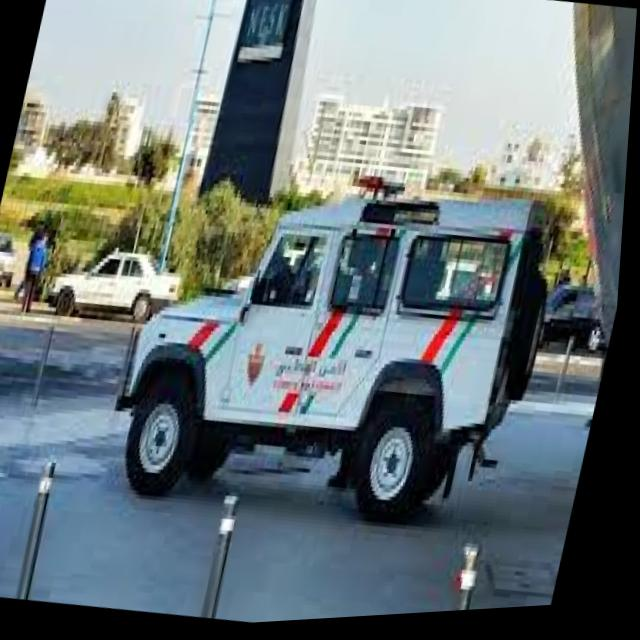Police car: (90, 125, 580, 569)
